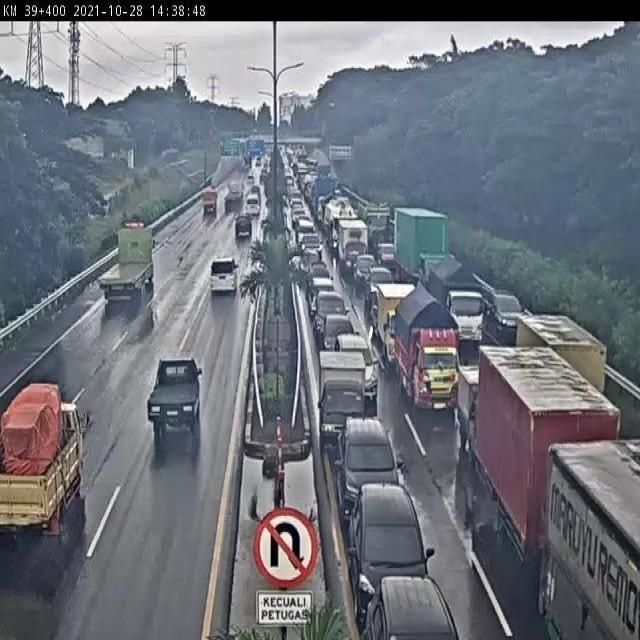big truck: (479, 345, 626, 595), (391, 205, 451, 298), (98, 221, 157, 303), (223, 181, 244, 215)
car: (349, 486, 436, 618), (335, 418, 399, 530), (363, 577, 460, 640), (335, 336, 380, 403), (319, 315, 360, 369), (312, 290, 350, 342), (485, 291, 524, 340), (367, 265, 395, 308), (210, 256, 239, 291), (309, 276, 334, 316), (355, 255, 376, 288), (233, 217, 252, 240)
small bus: (242, 196, 260, 217)
small truck: (0, 381, 92, 544), (518, 316, 609, 448), (393, 287, 462, 416), (458, 365, 521, 468), (317, 348, 369, 449), (428, 256, 486, 343), (147, 360, 204, 436), (377, 283, 420, 369), (339, 220, 369, 276), (200, 189, 219, 219)
